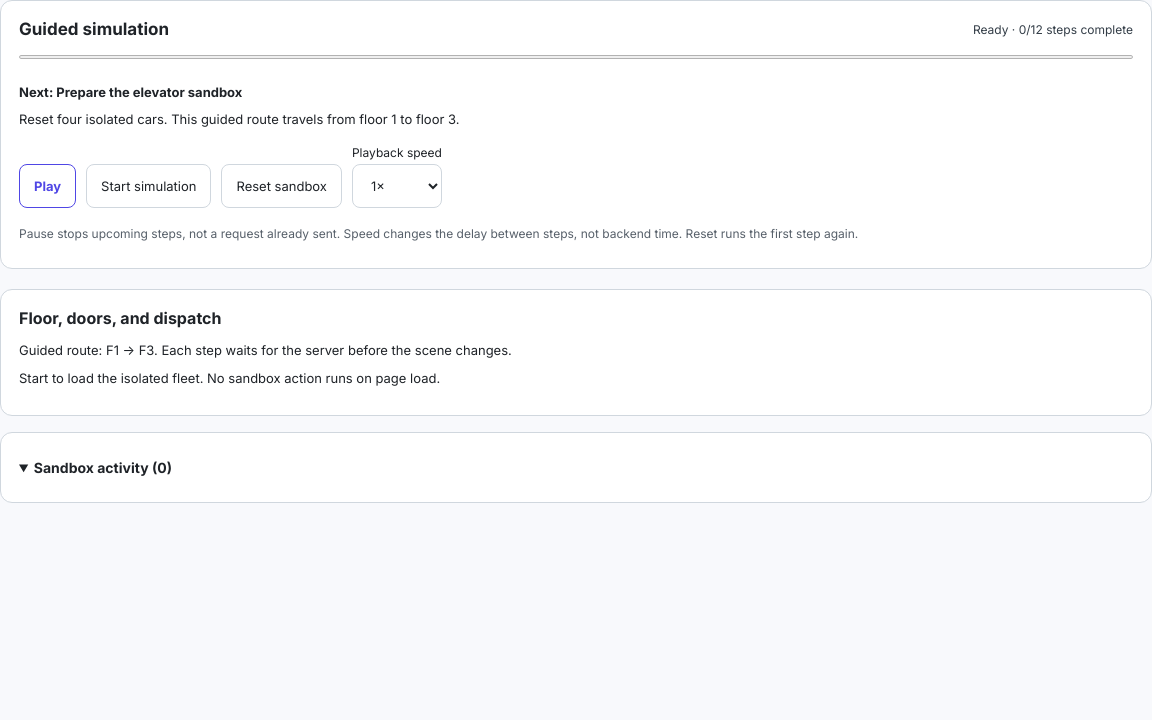
Test: Fleet simulation walkthroughs › stops visibly on an elevator failure and requires reset instead of repeating a request
What coordinates should you click on to do the following:
click the button "Start simulation"
I would click on:
 (149, 186)
Its box is left=86, top=164, right=212, bottom=208.
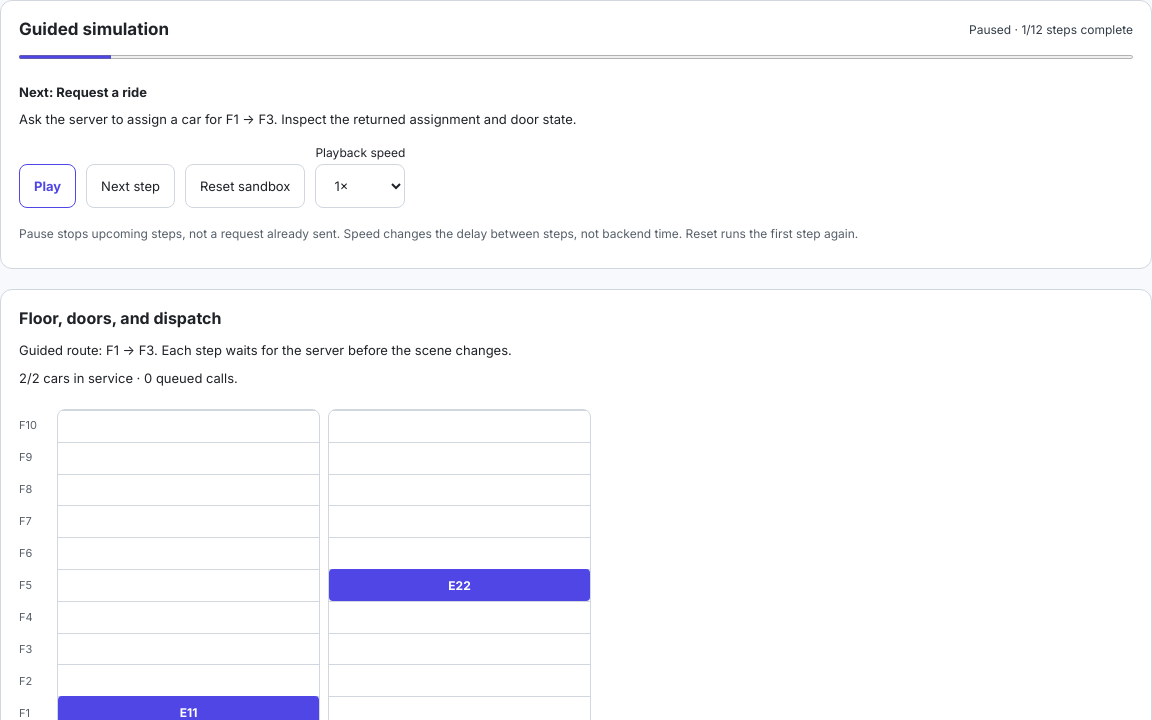
Expected: the progress indicator holds "1", left=19, top=53, right=1133, bottom=61
What coordinates should you click on to do the following:
click the button "Next step"
I would click on:
 (131, 186)
Its box is left=86, top=164, right=175, bottom=208.
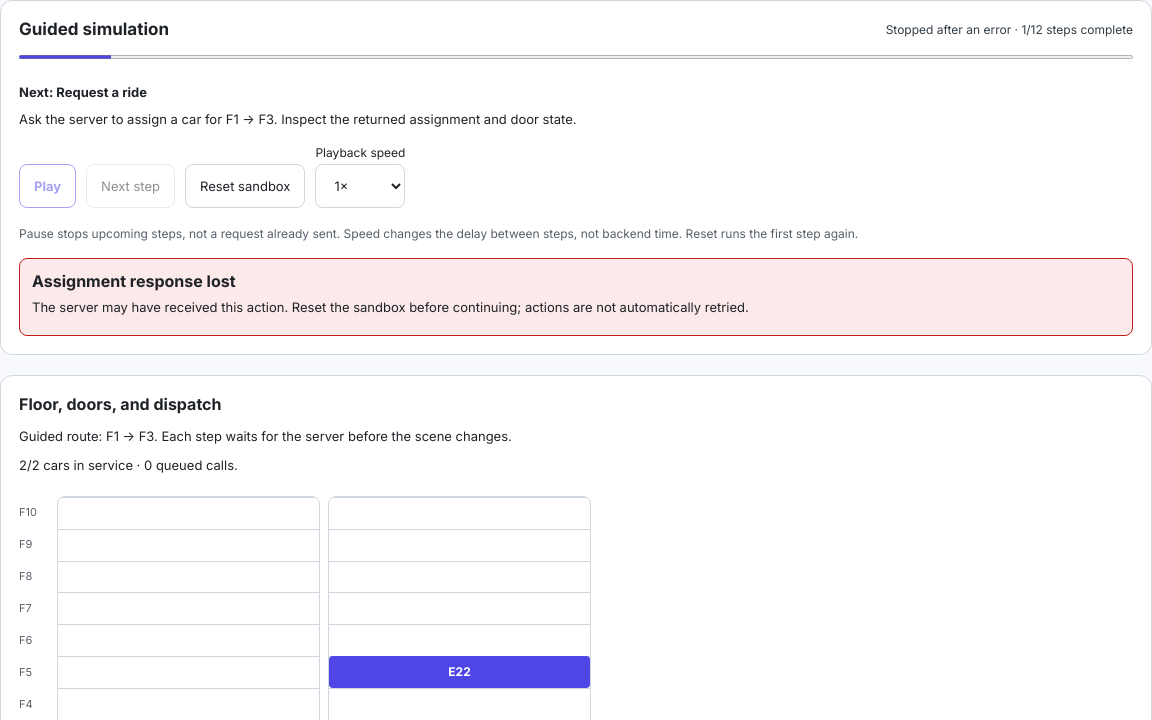
Now the message that starts with "Assignment response lost" is shown, box left=32, top=271, right=236, bottom=291
Now the button "Next step" is disabled, box left=86, top=164, right=175, bottom=208
What coordinates should you click on to do the following:
click the button "Reset sandbox"
I would click on:
 (245, 186)
Its box is left=185, top=164, right=306, bottom=208.
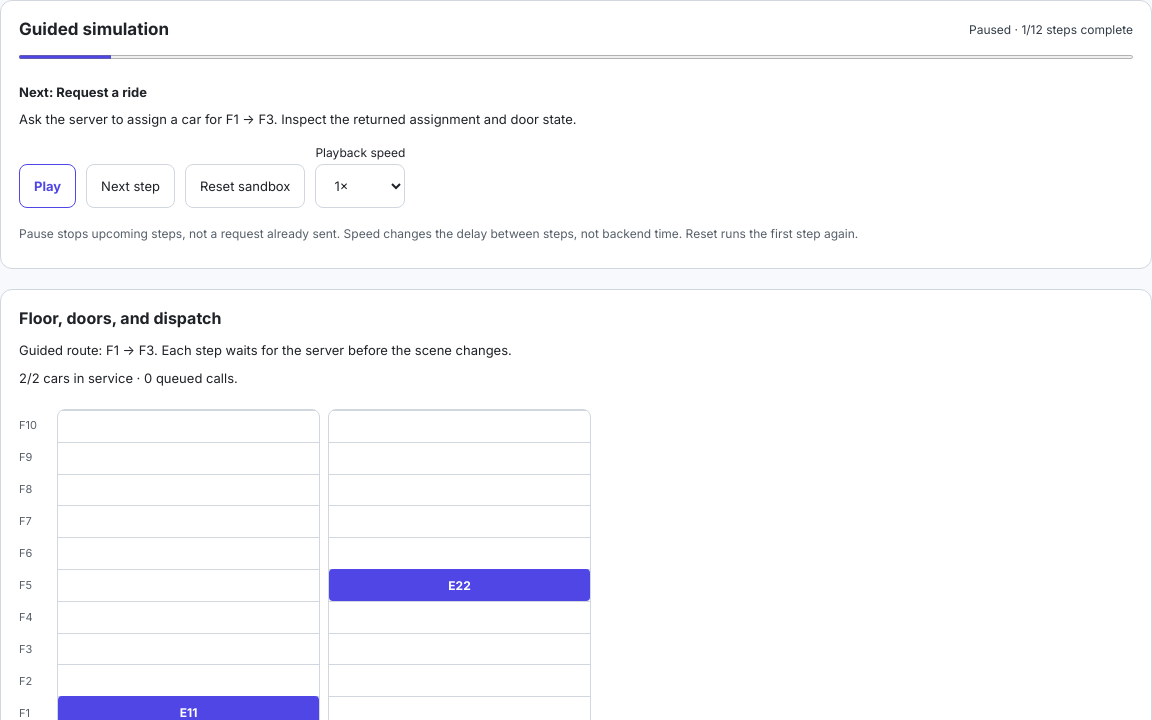
Now the button "Next step" is enabled, box left=86, top=164, right=175, bottom=208
